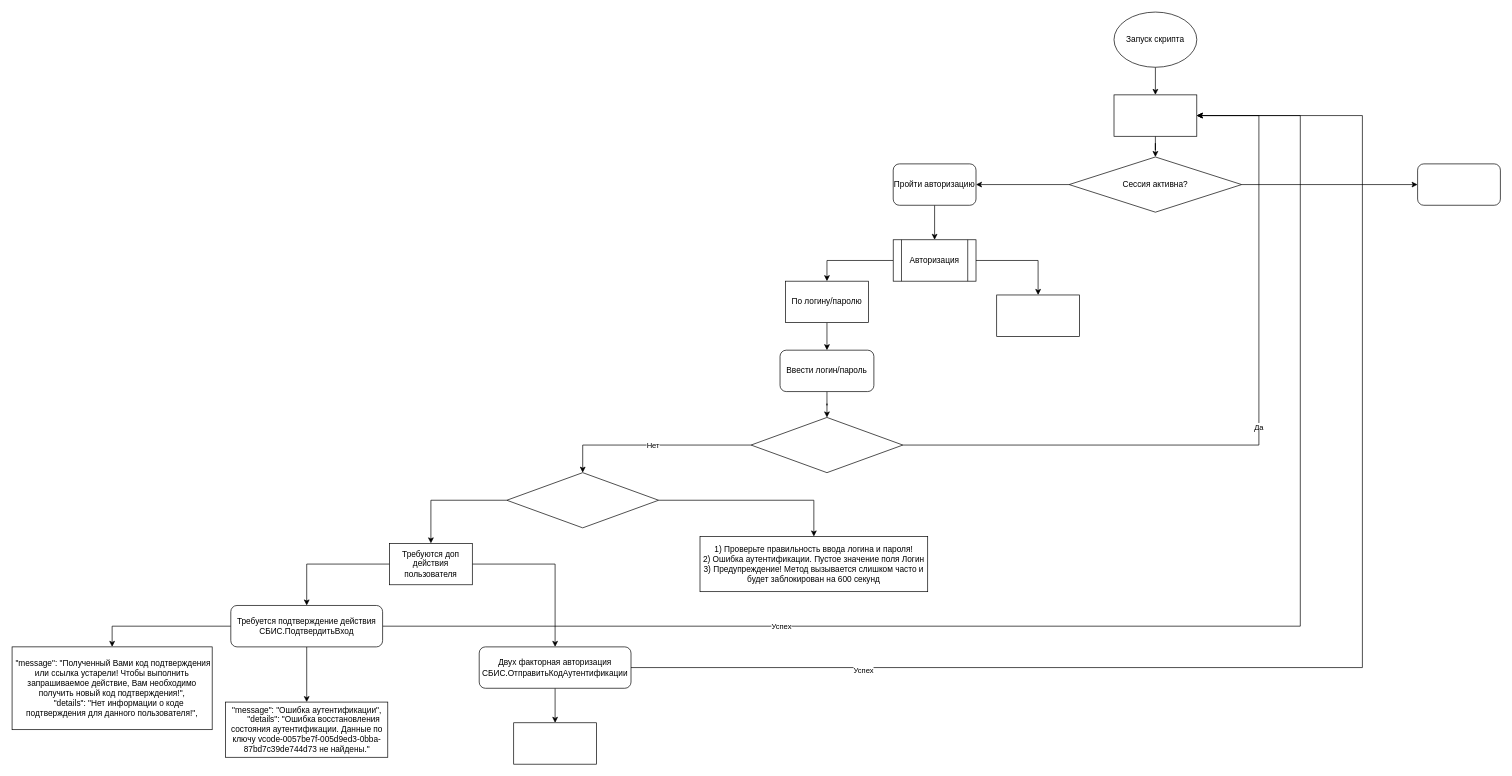
This 1512x776 diagram has some shape labels left out. The shapes that lost their labels are listed below. From the top down, each one's box as (x1, y1, x2, y2) in pixels, then its label:
(1113, 94, 1197, 136): Проверка сессии (X-SBISSessionID)
(1417, 163, 1500, 205): Вывод списка команд
(996, 294, 1080, 336): По сертификату
(750, 417, 903, 473): Получили SSID?
(506, 472, 659, 528): Ошибка?
(513, 722, 597, 764): Сессия для подтверждения входа по SMS недействительна
